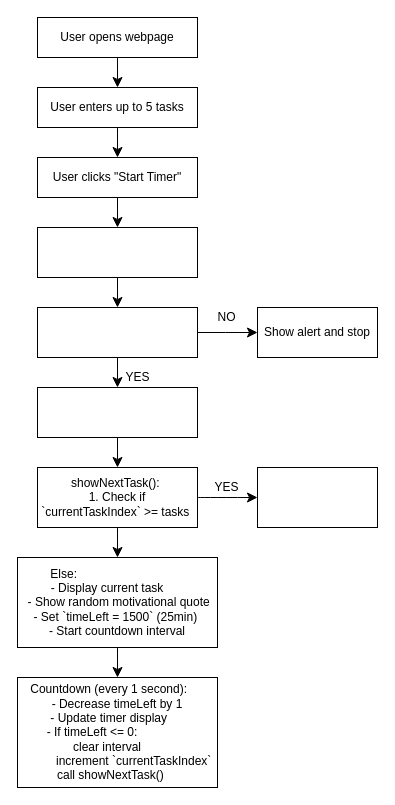
The diagram is 395 pixels wide and 805 high, and some of its shapes have lost their labels. Here are the shapes that lost their labels. From the top down, the box of each, then its label:
(36, 226, 198, 278): Collect all non-empty task input into 'task' array
(36, 306, 198, 358): If no tasks entered?
(36, 386, 198, 438): Set 'currentTaskIndex= 0' Call showNextTask()
(256, 466, 378, 528): If yes: display "All tasks done" stop timer, show break message
